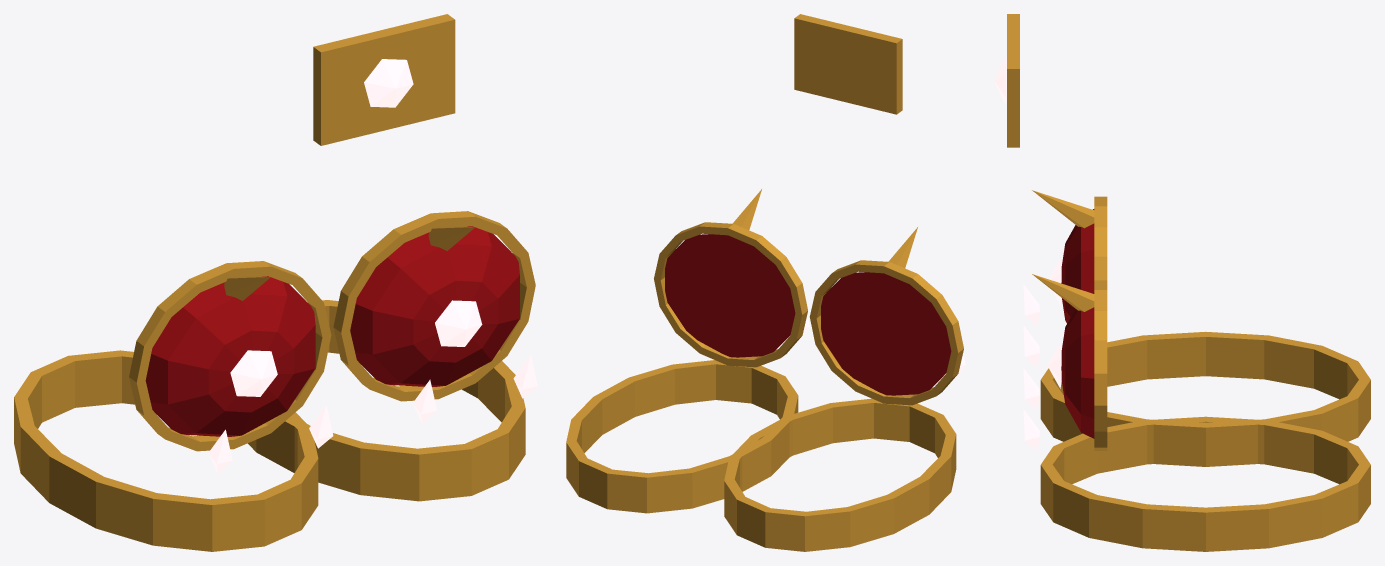
Rendered from armor_knight_legs_mythic_human.glb.
3 views of the same model, side by side, from view 1: azimuth 30°, elevation 25°; view 2: azimuth 150°, elevation 25°; view 3: azimuth 270°, elevation 25° (orthographic). The views are drawn at different scales.
Parts seen in each view (by area): view 1: armor_knight_legs_mythic_human__calf_r, armor_knight_legs_mythic_human__calf_l, armor_knight_legs_mythic_human__pelvis; view 2: armor_knight_legs_mythic_human__calf_l, armor_knight_legs_mythic_human__calf_r, armor_knight_legs_mythic_human__pelvis; view 3: armor_knight_legs_mythic_human__calf_l, armor_knight_legs_mythic_human__calf_r, armor_knight_legs_mythic_human__pelvis.
Boxes of the visible parts, x1,y1,x2,y2 form: armor_knight_legs_mythic_human__calf_r: [14, 261, 333, 551]; armor_knight_legs_mythic_human__calf_l: [248, 211, 537, 501]; armor_knight_legs_mythic_human__pelvis: [313, 14, 455, 145]; armor_knight_legs_mythic_human__calf_l: [566, 189, 809, 513]; armor_knight_legs_mythic_human__calf_r: [724, 227, 965, 551]; armor_knight_legs_mythic_human__pelvis: [794, 14, 902, 114]; armor_knight_legs_mythic_human__calf_l: [1023, 274, 1370, 551]; armor_knight_legs_mythic_human__calf_r: [1023, 190, 1370, 466]; armor_knight_legs_mythic_human__pelvis: [994, 14, 1019, 147].
Size of the model in its own units: 39.42 by 42.7 by 34.72.
